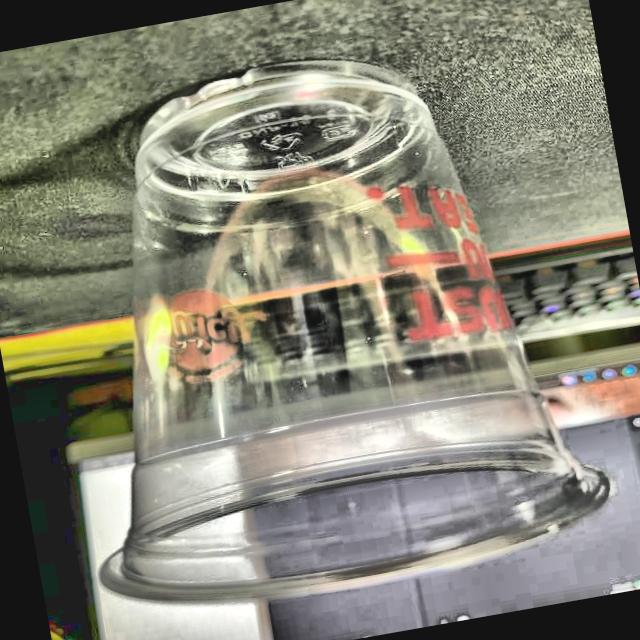plastic cup: (8, 17, 620, 632)
